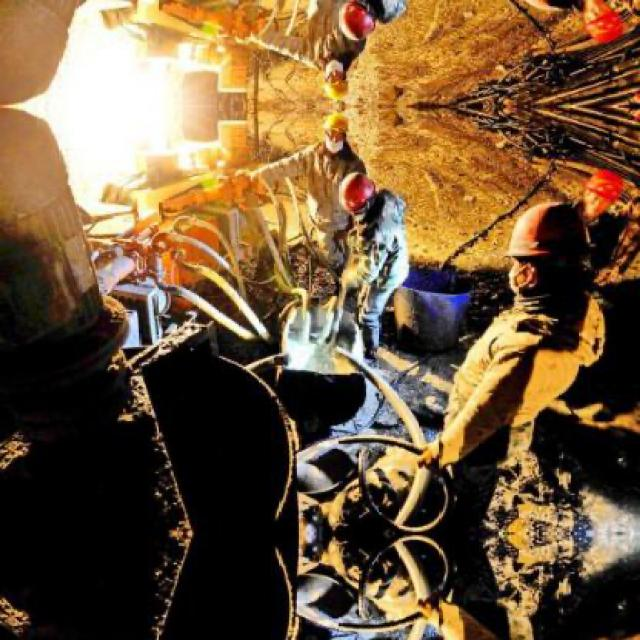helmet: (505, 201, 597, 299), (578, 166, 624, 218), (577, 0, 625, 48), (338, 0, 377, 40), (340, 174, 377, 214), (320, 60, 351, 105), (320, 110, 351, 154)
